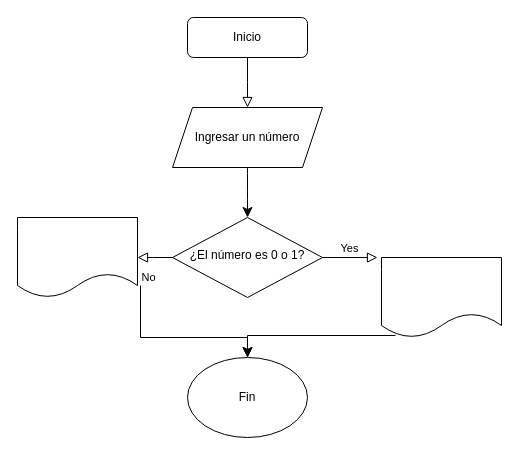
This 519x455 diagram has some shape labels left out. Here are the shapes that lost their labels. From the top down, the centre of each, then its label:
At pixel 77 257: "El número es primo o compuesto".
At pixel 441 297: "El número no es primo ni compuesto".
